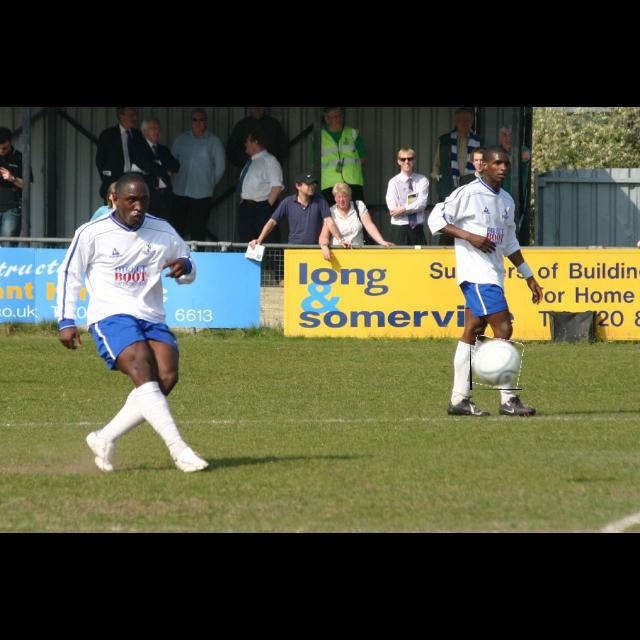Football: (470, 338, 522, 390)
